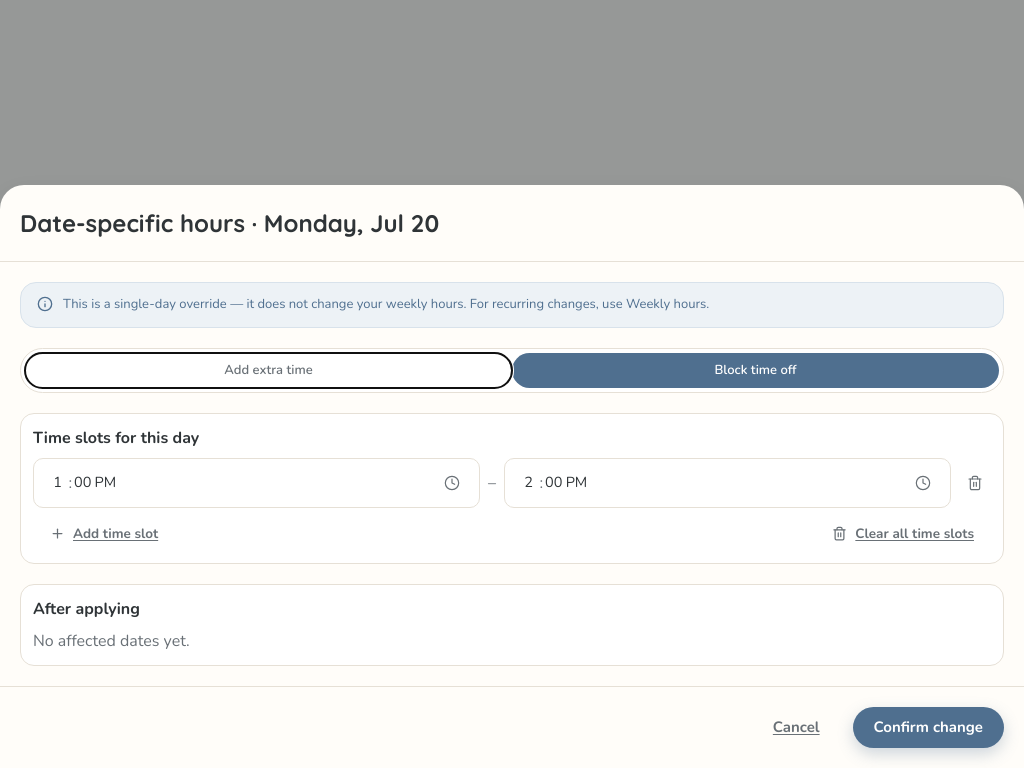
Test case: DateOverrideModal — kind default + loading existing overrides › switching the toggle re-loads the OTHER kind's existing slots
The width and height of the screenshot is (1024, 768).
Expected: the field named "Time slot 1 from hour" holds "1", [49,472,66,494]
// Switch to Add extra → the 3 PM ADDITIONAL slot loads.
Click the button "Add extra time" at (268, 370), box [25,352,512,388]
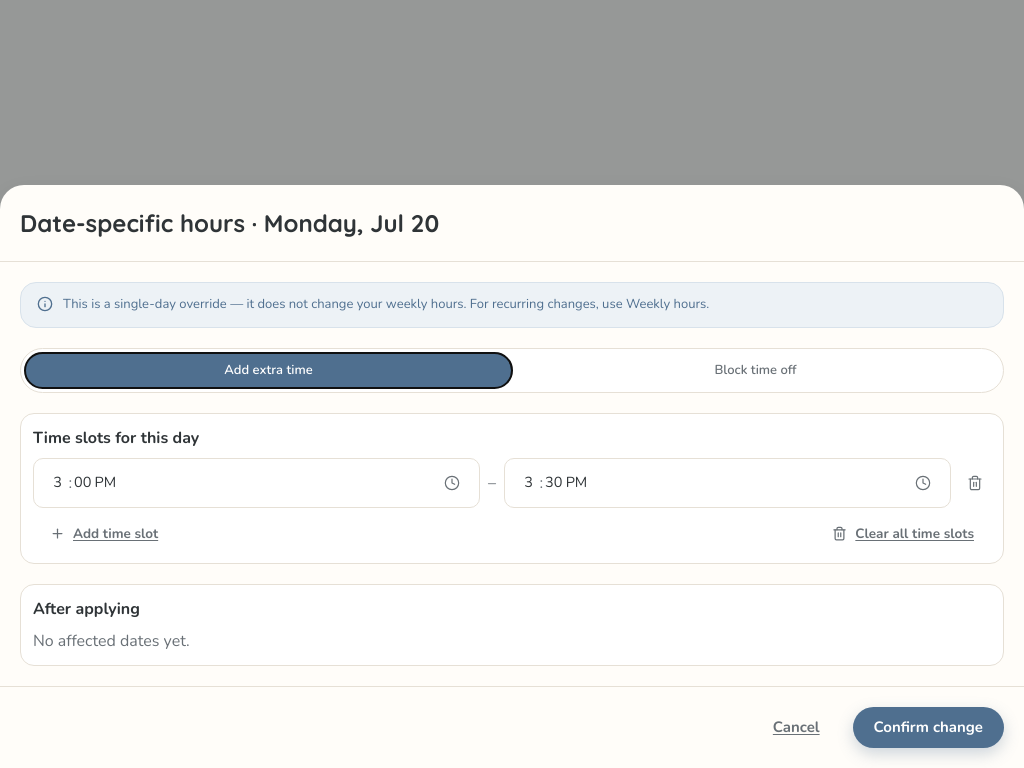
Expected: the field named "Time slot 1 from AM/PM" holds "PM", [93,472,117,494]
Now the field named "Time slot 1 from hour" holds "3", box [49,472,66,494]
